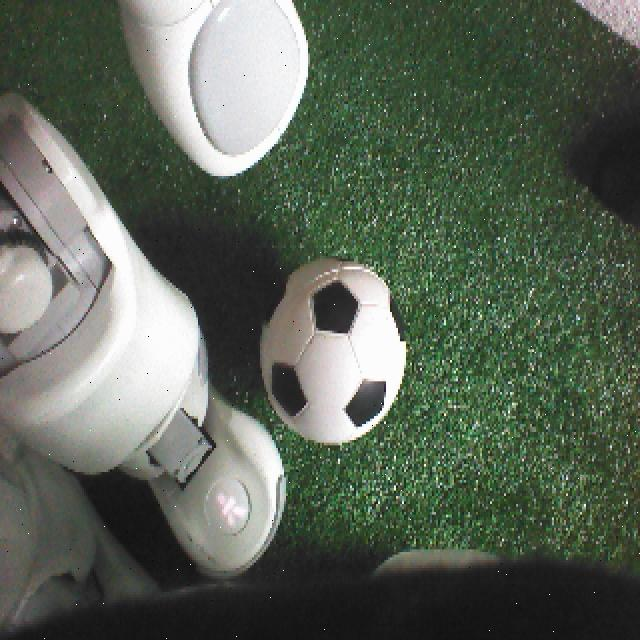ball: (258, 242, 410, 458)
